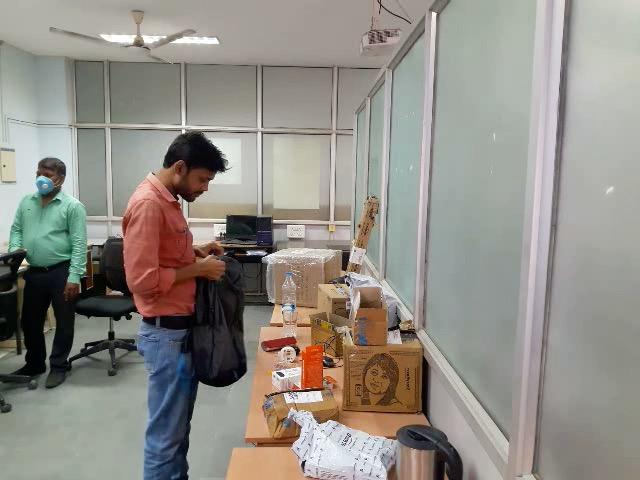Normal: (118, 126, 267, 480)
